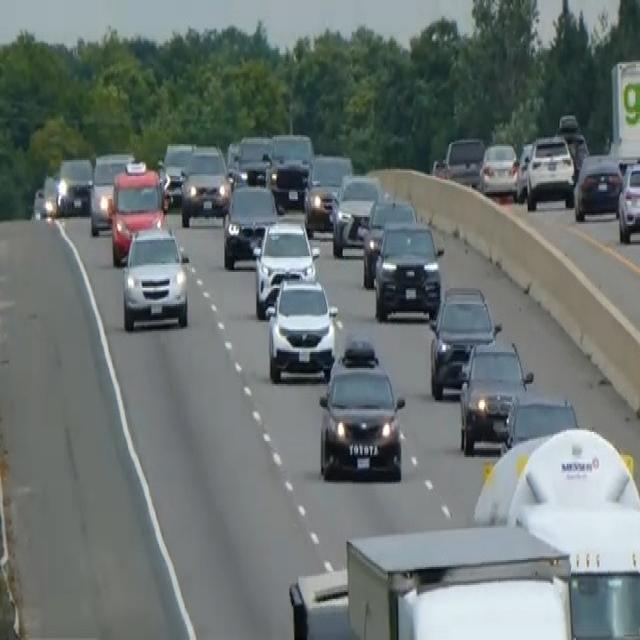car: (317, 338, 405, 482), (458, 336, 533, 453), (428, 283, 500, 398), (266, 272, 338, 382), (121, 224, 190, 331), (373, 218, 443, 322), (252, 217, 319, 318), (107, 160, 166, 265), (361, 194, 416, 288), (222, 180, 279, 268), (501, 391, 578, 453), (331, 170, 382, 258), (180, 142, 231, 226), (303, 151, 352, 235), (524, 133, 575, 210), (88, 151, 134, 235), (573, 151, 623, 221), (434, 135, 484, 187), (478, 141, 519, 199), (268, 156, 310, 212), (159, 140, 194, 207), (55, 155, 93, 215), (231, 133, 273, 185), (617, 158, 639, 242), (269, 130, 313, 167), (32, 172, 59, 220)
lorry: (505, 425, 639, 638), (344, 521, 575, 638), (607, 55, 639, 167)
